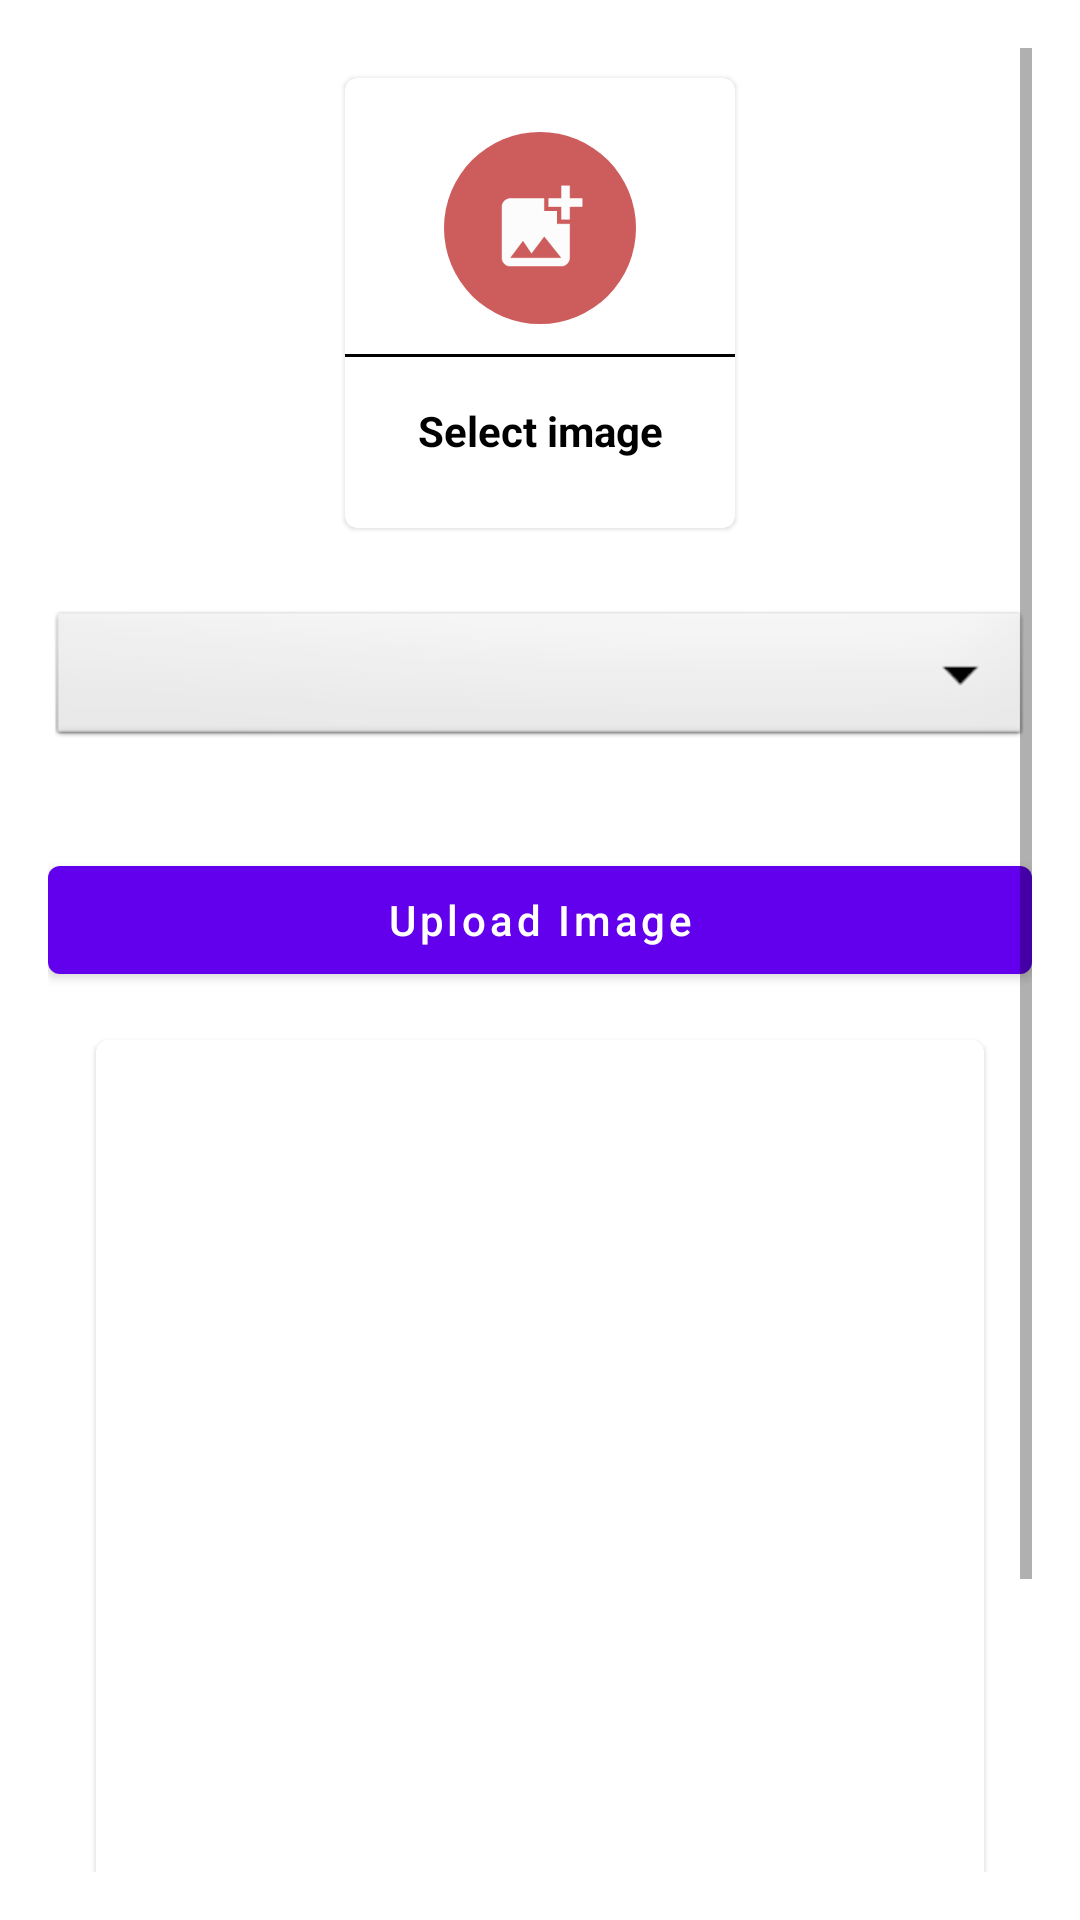

Icon bounding boxes for this 1080 × 1920 phone screenshot, format bbox=(x1, y1, x2, y2):
images: bbox=(444, 132, 636, 324)
